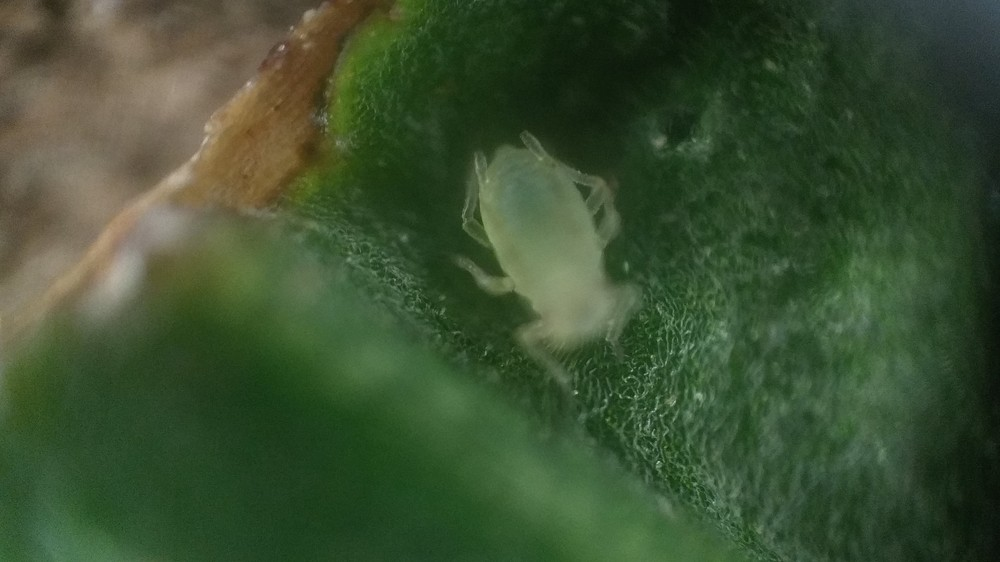Pulgon: (447, 121, 679, 409)
